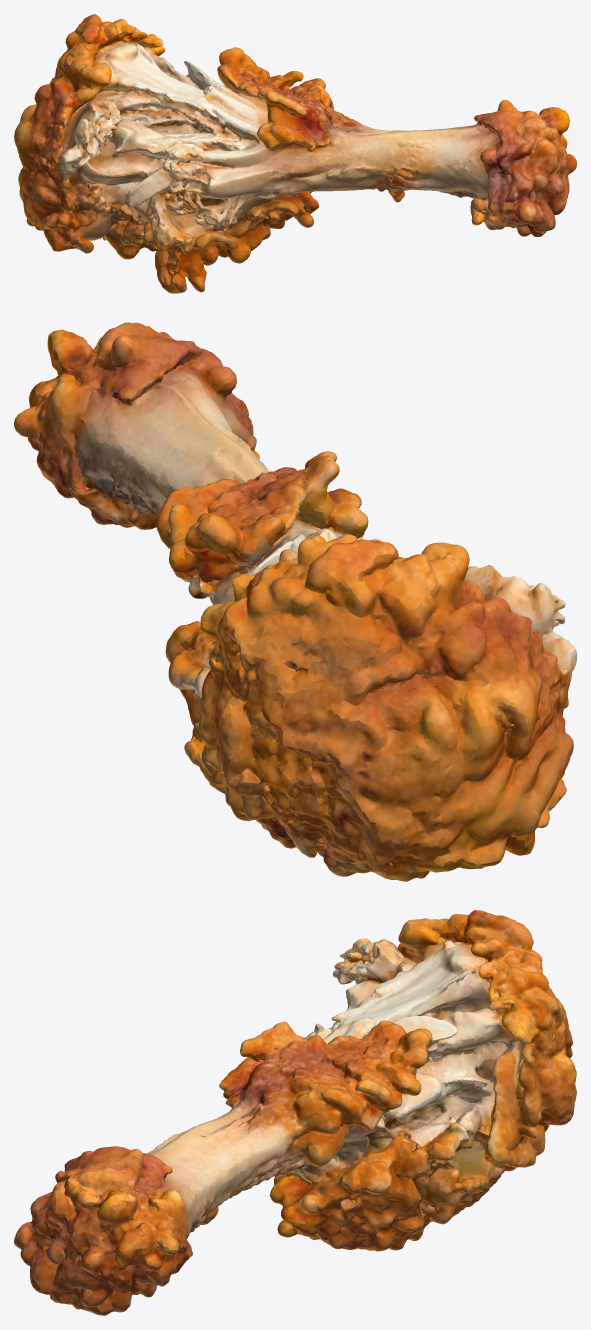
3 views of the same model, one above another, from view 1: azimuth 30°, elevation 25°; view 2: azimuth 150°, elevation 25°; view 3: azimuth 270°, elevation 25° (orthographic). The views are drawn at different scales.
Visible parts, largest first — view 1: FoodRedoV2Alignment-0; view 2: FoodRedoV2Alignment-0; view 3: FoodRedoV2Alignment-0.
Boxes of the visible parts, x1,y1,x2,y2 form: FoodRedoV2Alignment-0: [14, 14, 576, 293]; FoodRedoV2Alignment-0: [14, 322, 576, 881]; FoodRedoV2Alignment-0: [14, 910, 576, 1315].
Bounding box in the file's own units: 0.1311 × 0.0688 × 0.1155.
1 material, 1 textured.
